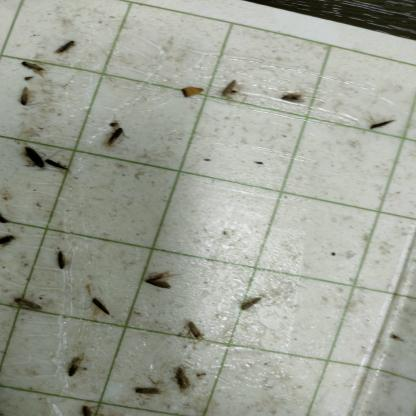prays_oleae: (369, 106, 406, 146), (230, 288, 267, 322), (216, 73, 241, 120), (170, 361, 196, 400), (13, 289, 43, 322), (45, 147, 71, 184), (102, 124, 132, 154), (60, 351, 86, 385), (141, 272, 174, 298), (24, 145, 46, 181), (130, 380, 165, 401), (0, 226, 17, 261), (183, 318, 207, 342), (20, 58, 46, 79), (89, 290, 108, 318), (51, 246, 68, 275), (19, 83, 33, 118), (280, 92, 303, 110), (52, 40, 78, 55), (78, 402, 102, 414)
